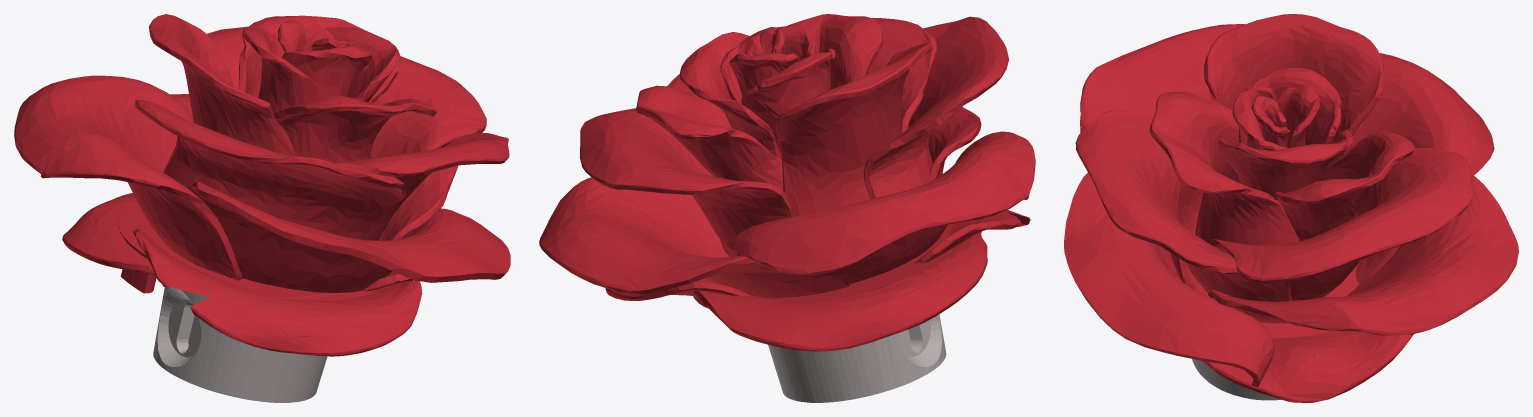
The model's file is frontpanel_red.glb.
3 views of the same model, side by side, from view 1: azimuth 30°, elevation 25°; view 2: azimuth 150°, elevation 25°; view 3: azimuth 270°, elevation 25° (orthographic). The views are drawn at different scales.
Bounding box in the file's own units: 0.064 × 0.0498 × 0.0626.
